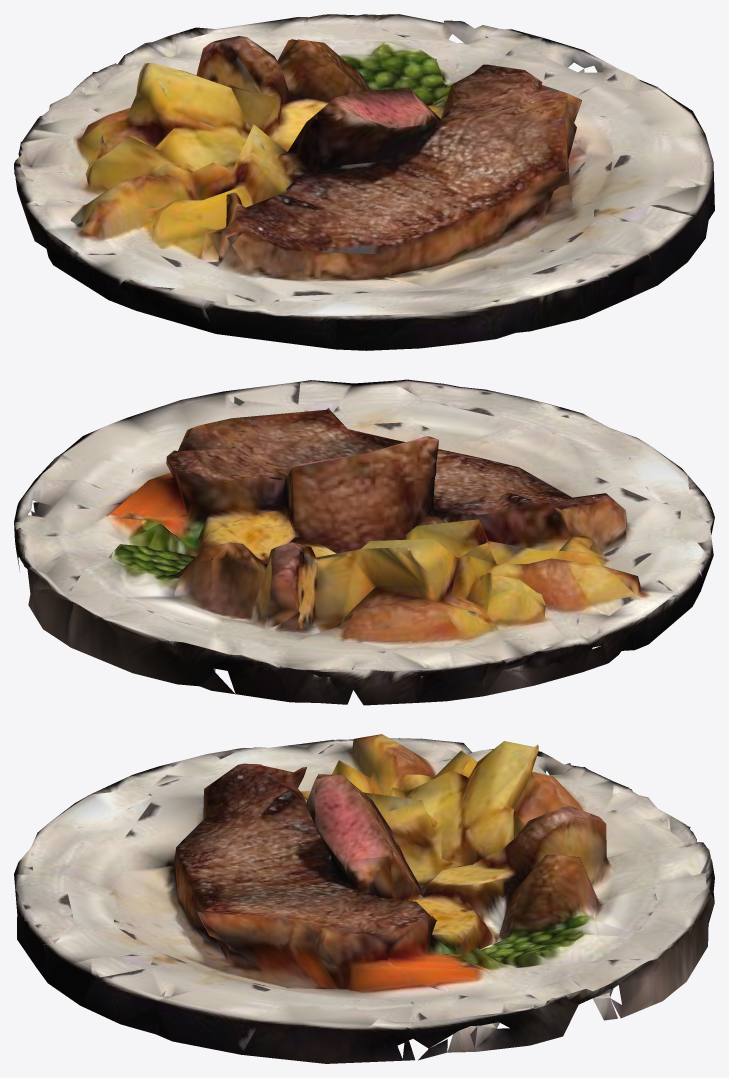
File: wagyu-final.glb
3 renders of one model, top to bottom at view 1: azimuth 30°, elevation 25°; view 2: azimuth 150°, elevation 25°; view 3: azimuth 270°, elevation 25°, orthographic.
Visible parts, largest first — view 1: mesh_main_0; view 2: mesh_main_0; view 3: mesh_main_0.
Part boxes in pixels (x1=…): mesh_main_0: x1=14, y1=14, x2=714, y2=350; mesh_main_0: x1=14, y1=379, x2=714, y2=705; mesh_main_0: x1=14, y1=734, x2=714, y2=1063.
Bounding box in the file's own units: 0.3127 × 0.0604 × 0.3128.
1 material, 1 textured.
